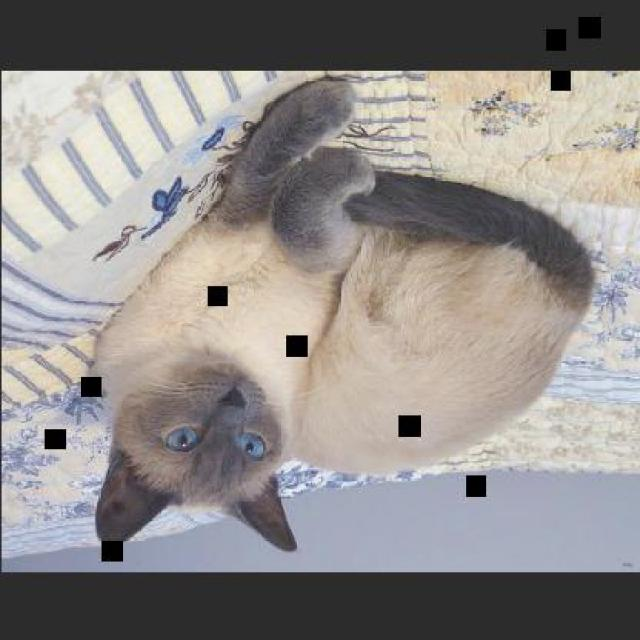unauthorized: (88, 74, 594, 552)
